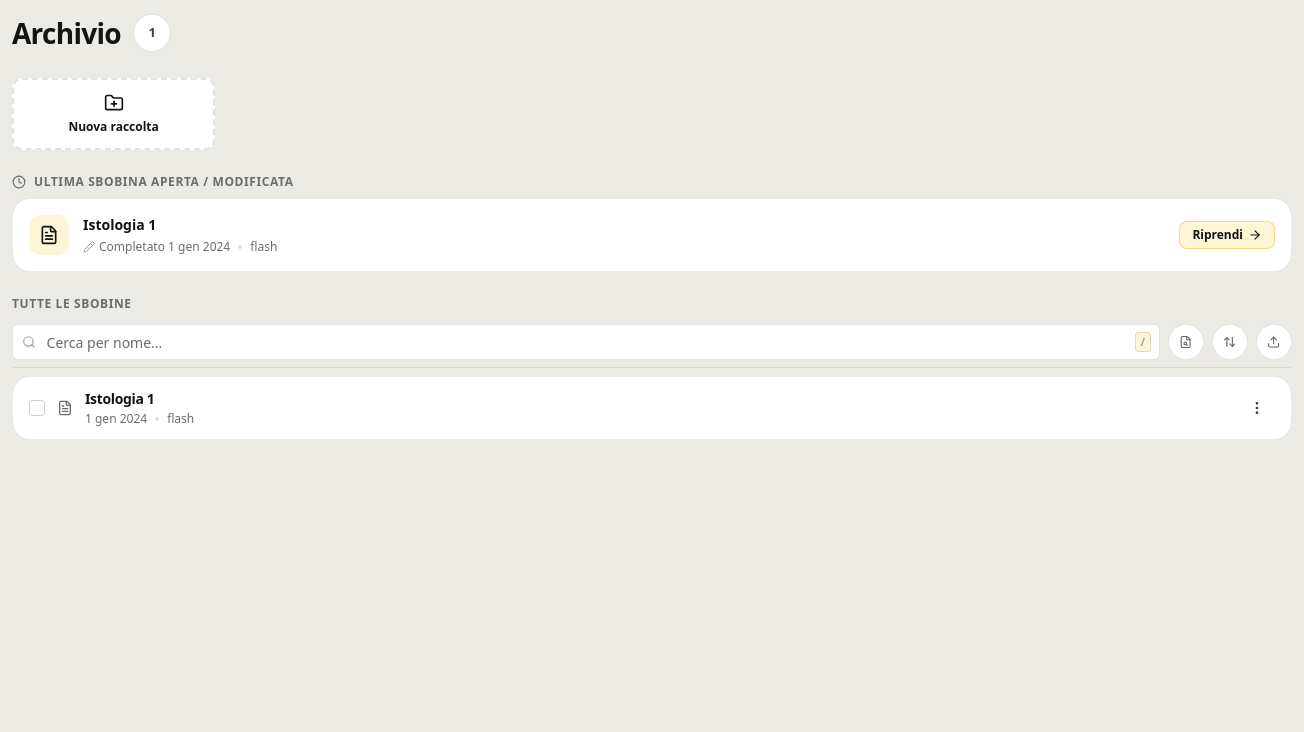
it: ArchivePage › performs full-text search and formats count with plus when total exceeds results
The image size is (1304, 732).
Note: Switch to full-text search mode
Click the button titled "Testo completo (Ricerca nel contenuto)" at (1186, 342), box [1168,324,1204,360]
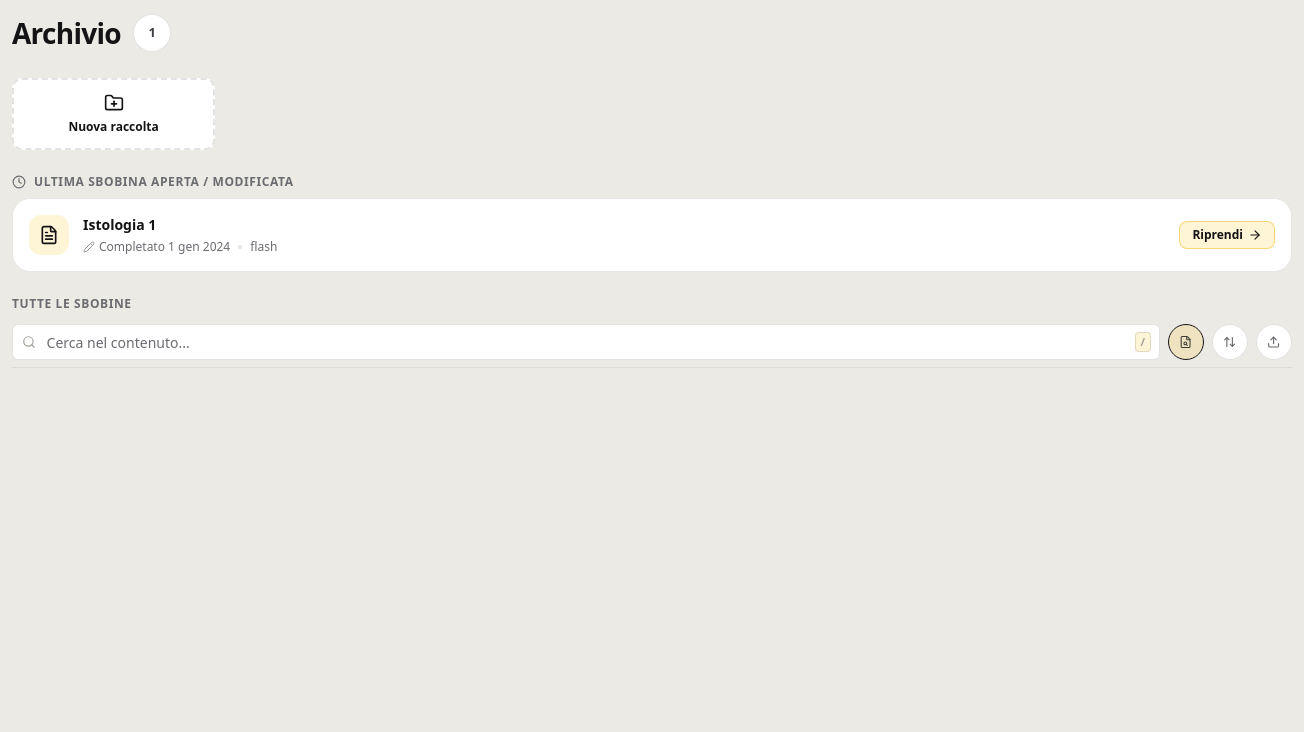
Type "epitelio" into the field with placeholder "Cerca nel contenuto..." at (586, 342), box [12,324,1160,360]
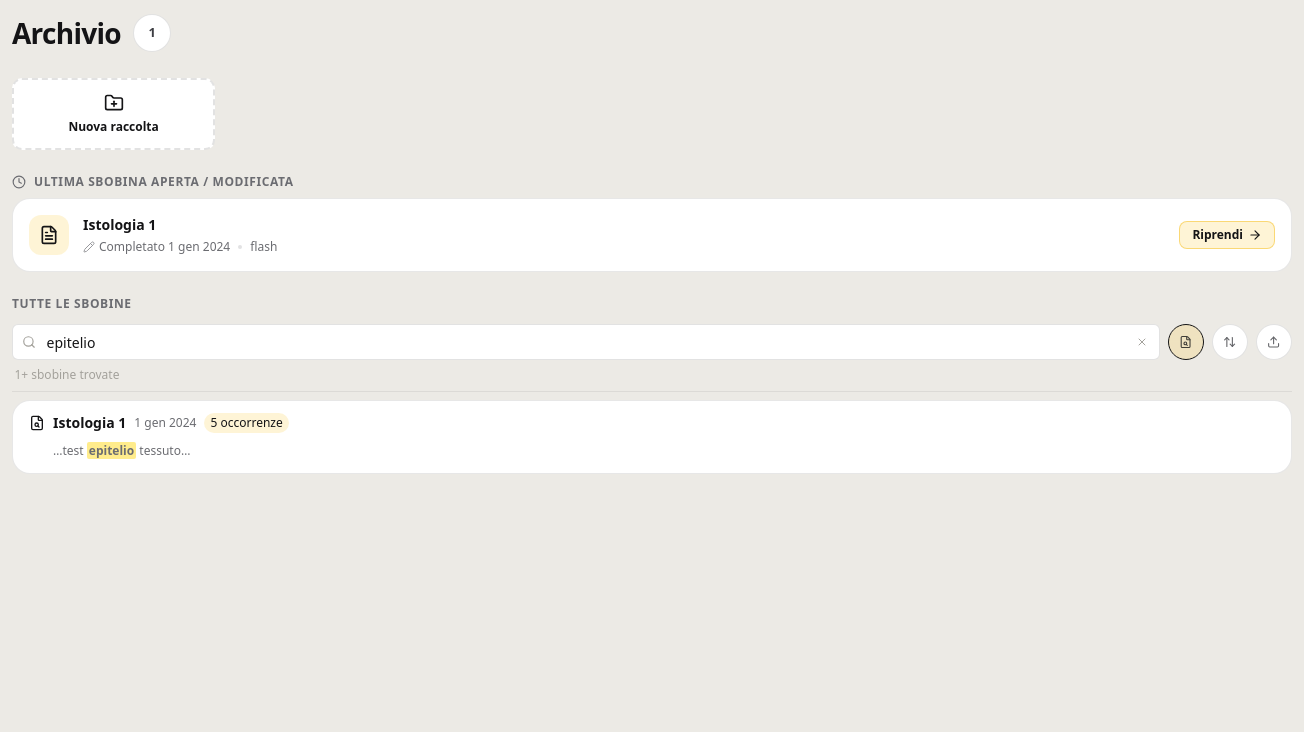
Result: the text "1+ sbobine trovate" is shown at [14,366,119,383]
Click the button named "Cambia ordinamento" at (1230, 342), box [1212,324,1248,360]
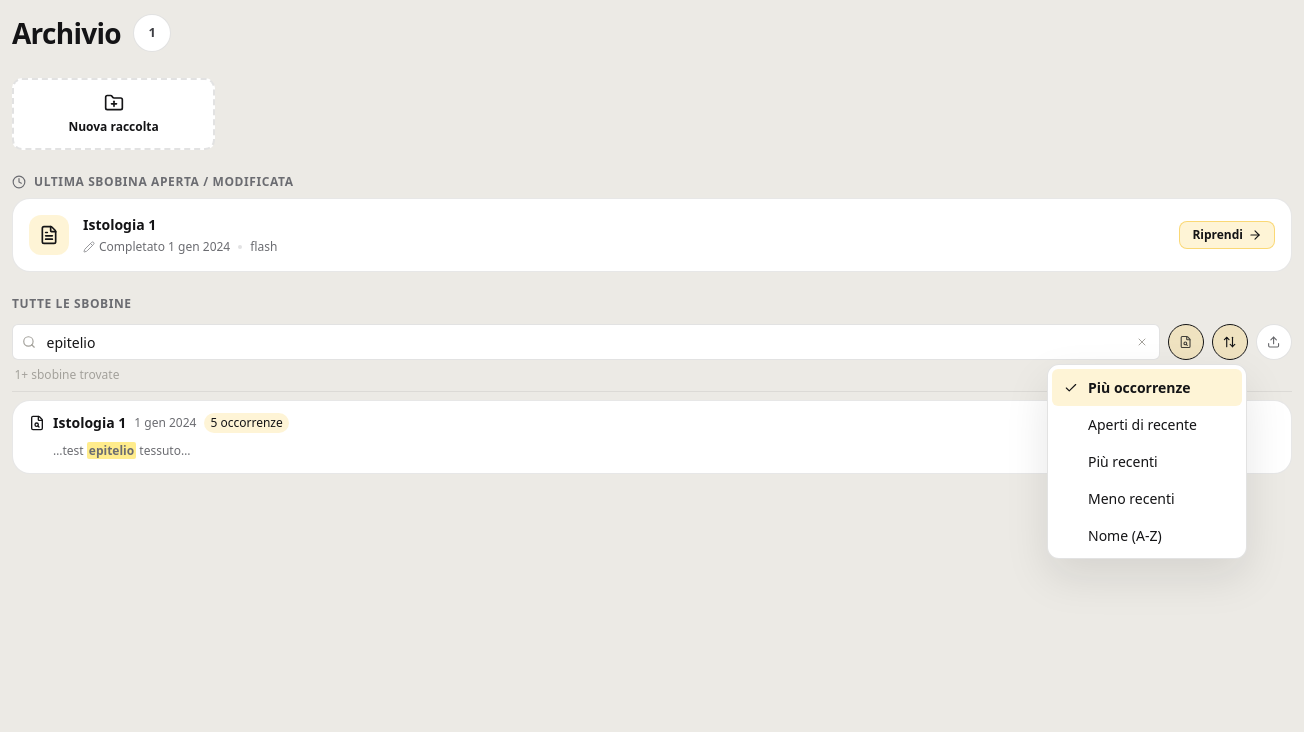
Result: the text "Più occorrenze" is shown at [1088,377,1191,398]
